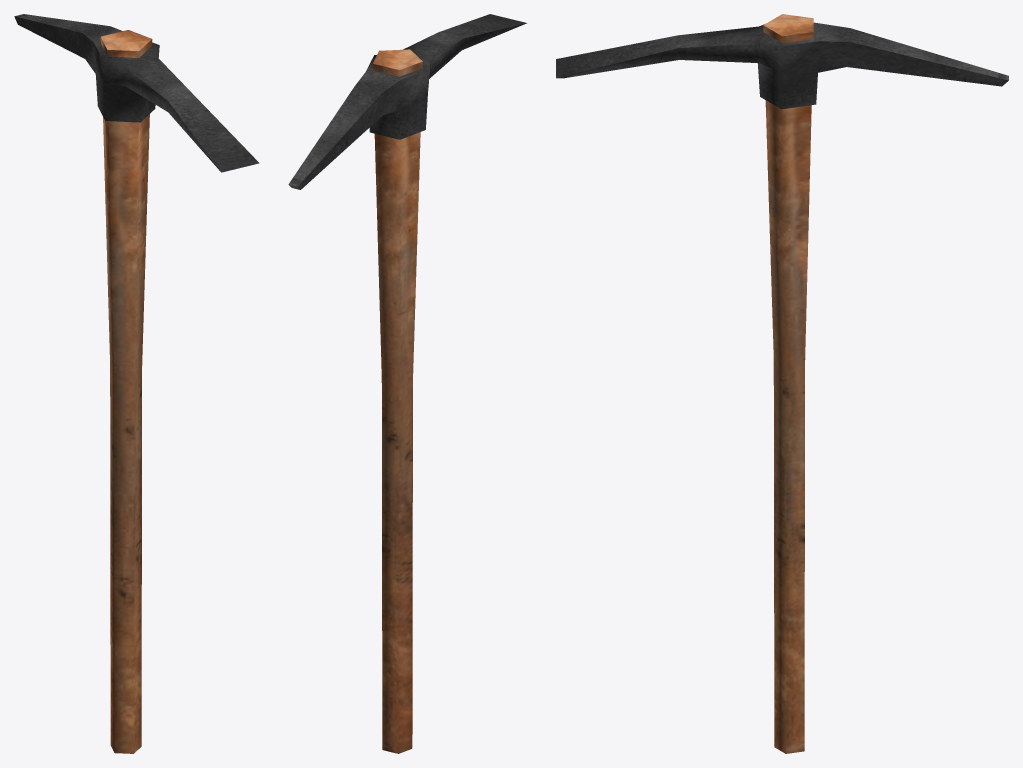
File: pickaxe.glb
3 views of the same model, side by side, from view 1: azimuth 30°, elevation 25°; view 2: azimuth 150°, elevation 25°; view 3: azimuth 270°, elevation 25° (orthographic). The views are drawn at different scales.
Visible parts, largest first — view 1: Beak; view 2: Beak; view 3: Beak.
Boxes of the visible parts, bbox=[...] form: Beak: bbox=[14, 14, 259, 753]; Beak: bbox=[288, 14, 526, 753]; Beak: bbox=[556, 14, 1008, 753].
Size of the model in its own units: 0.0982 by 1.15 by 0.6563.
Materials: 1 (1 with a texture image).
